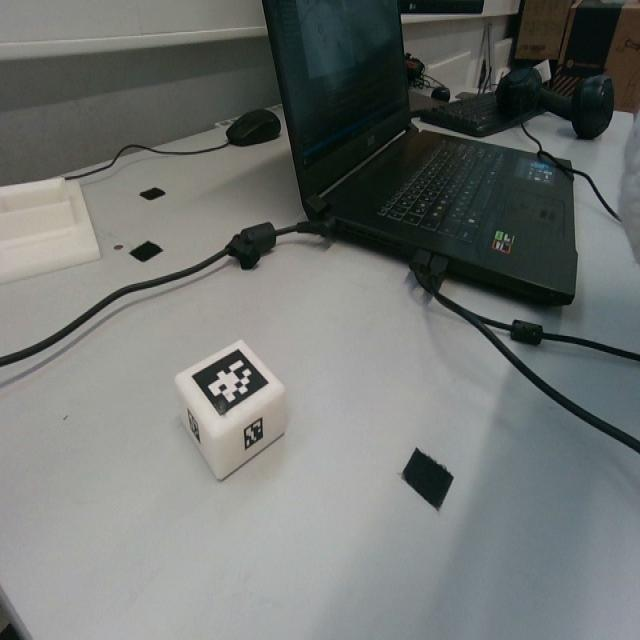Cube: (174, 336, 287, 480)
